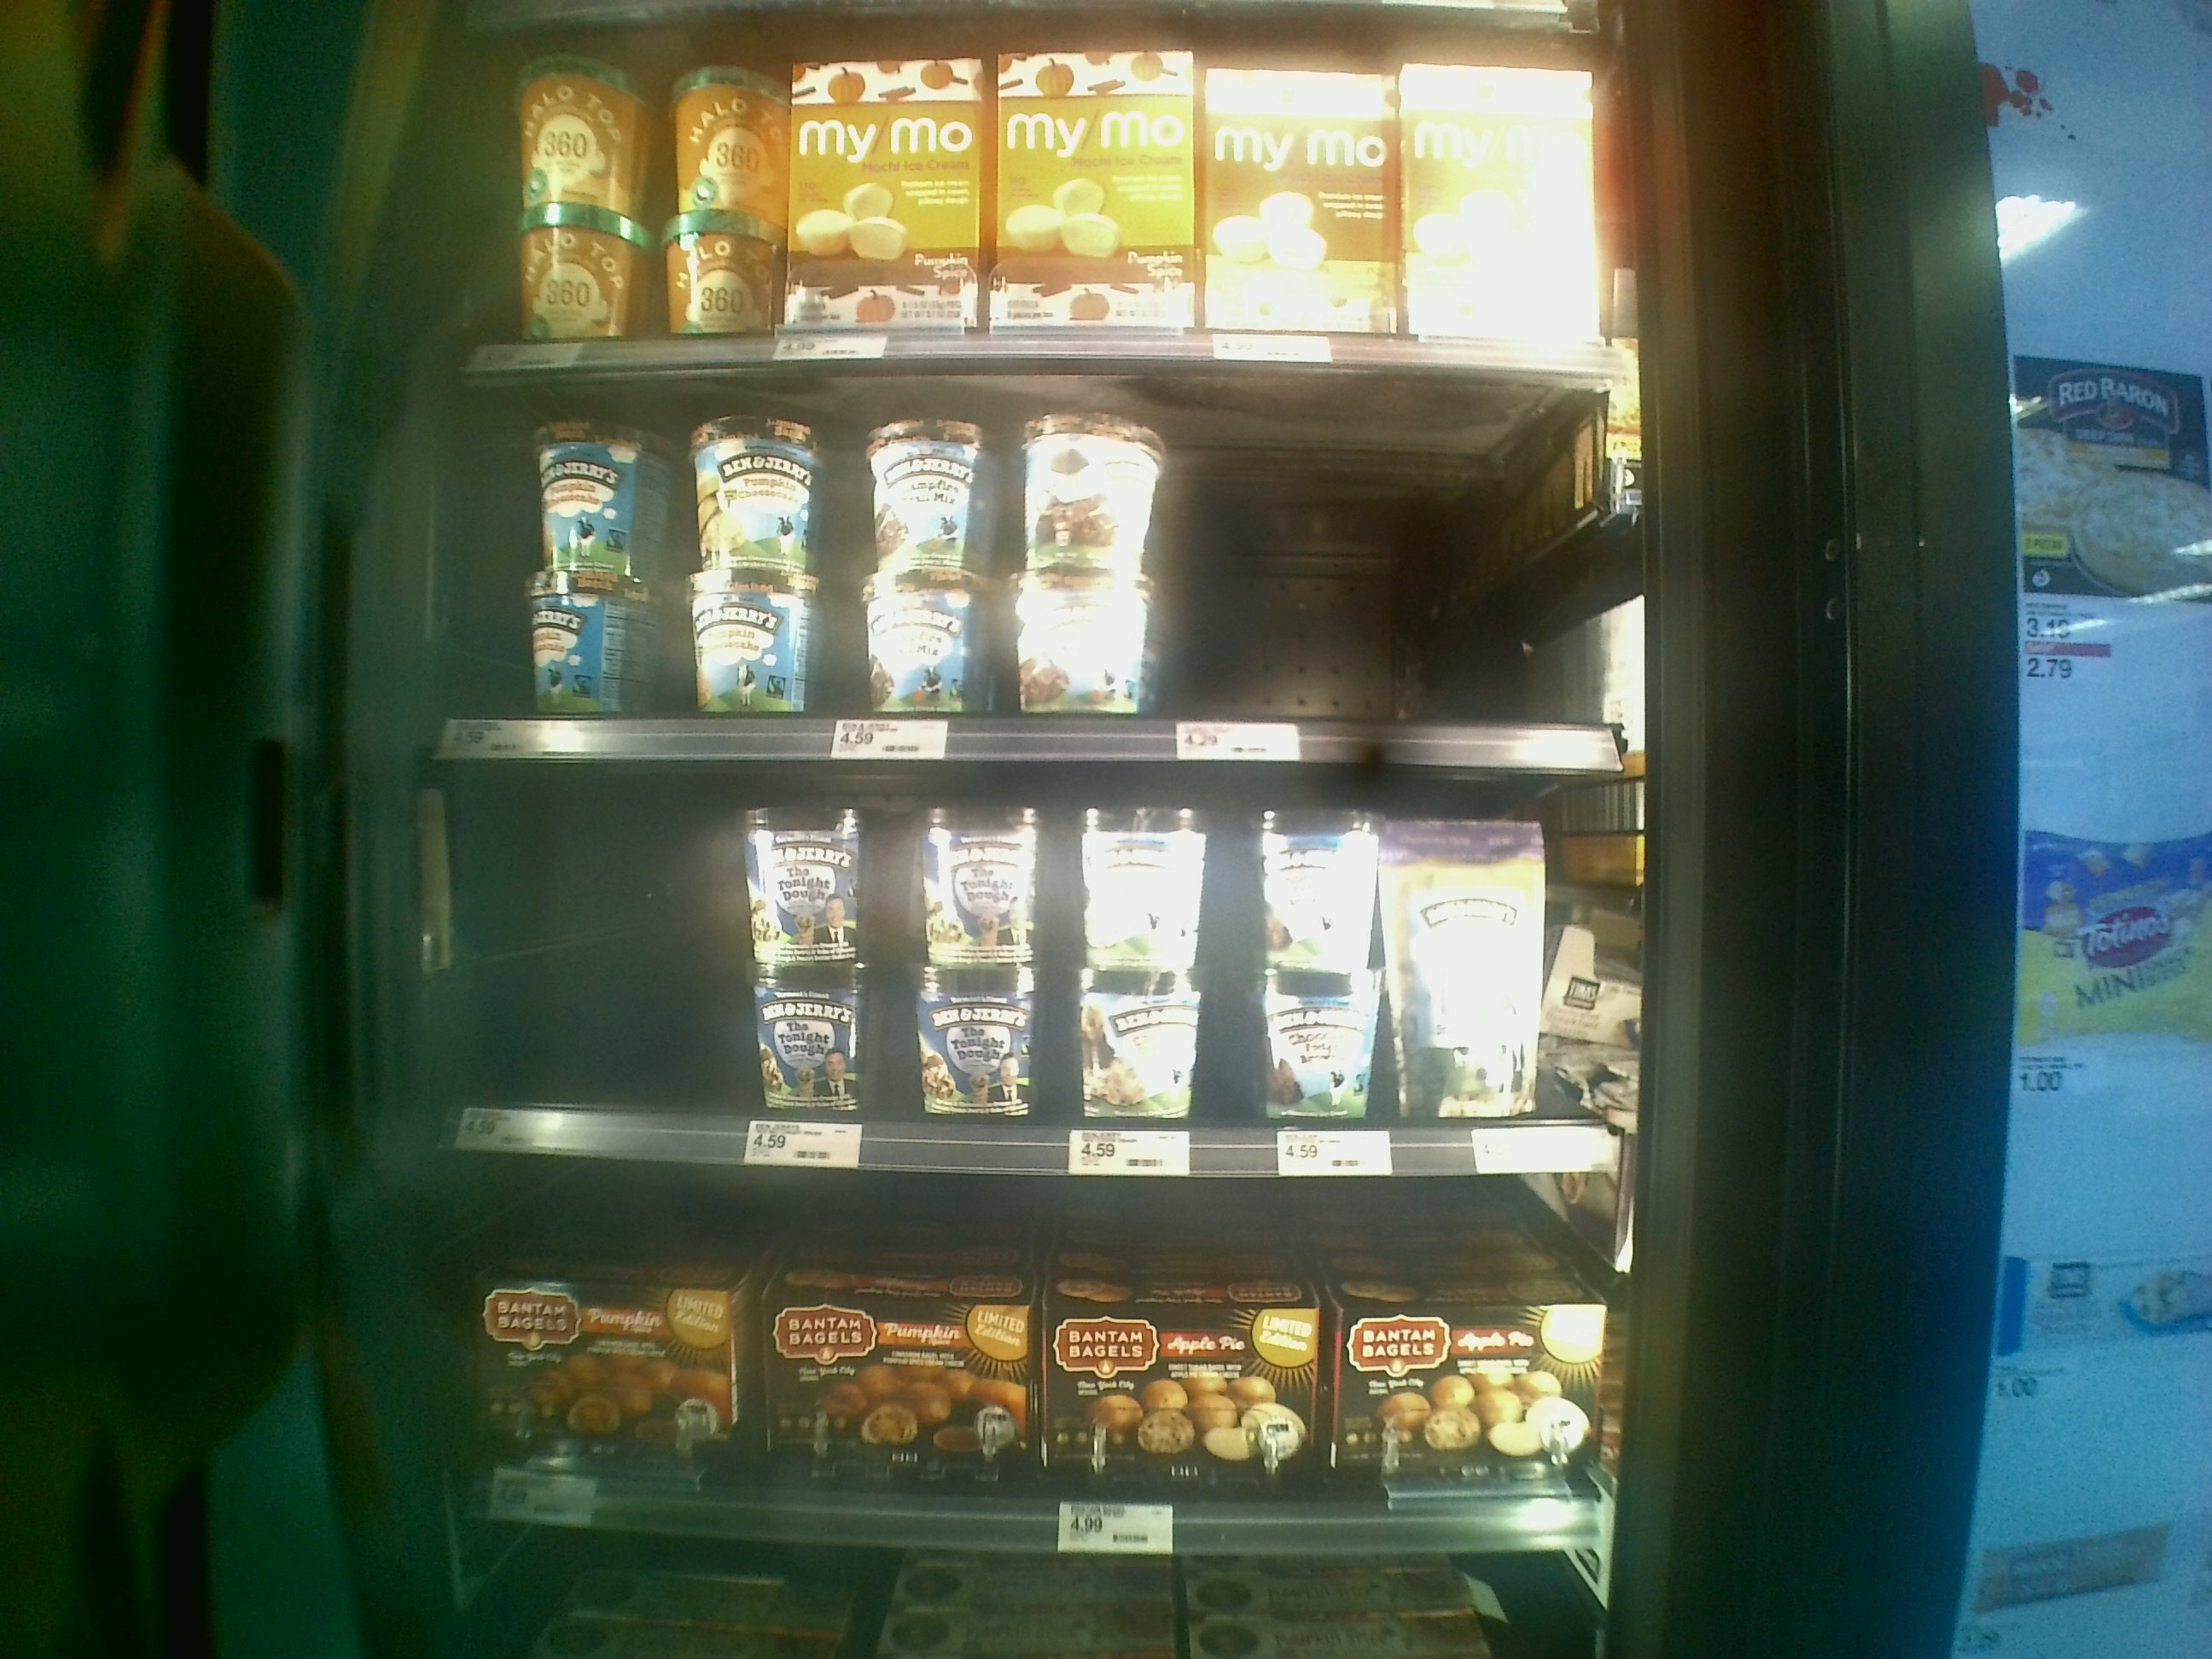shelf: (449, 357, 1635, 781), (439, 763, 1625, 1182), (427, 1157, 1622, 1556)
